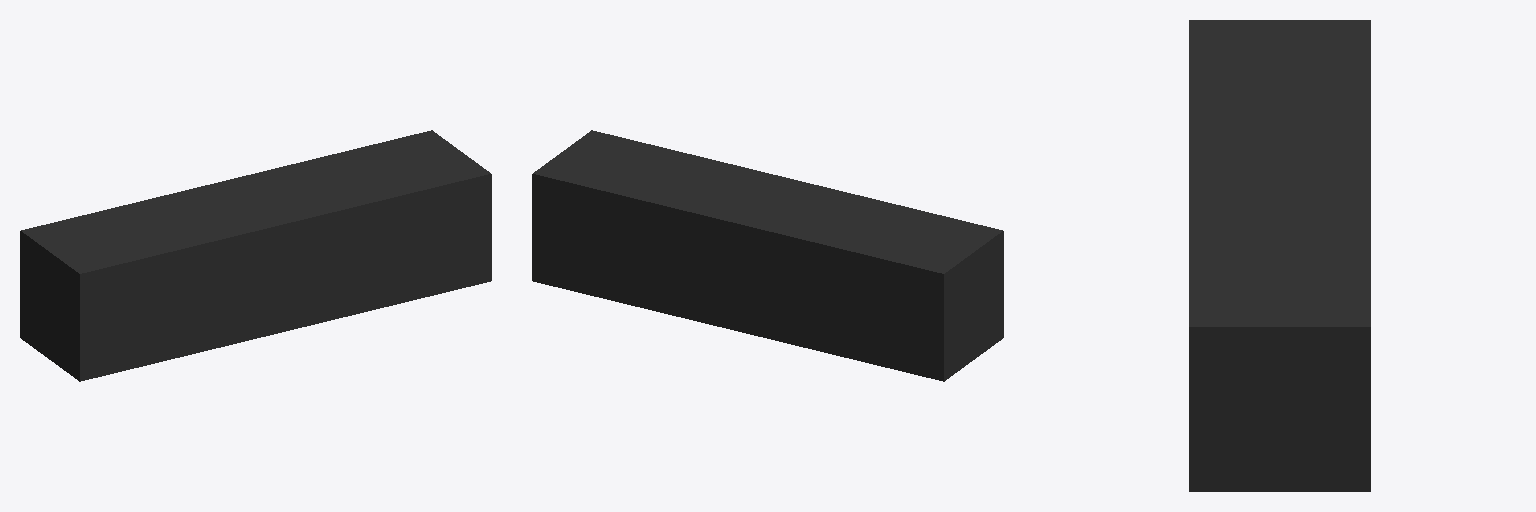
URDF robot description (wall):
<robot name="wall">
  <link name="baseLink">
   
    <inertial>
      <origin rpy="0 0 0" xyz="0 0 0" />
       <mass value="1000" />
       <inertia ixx="0" ixy="0" ixz="0" iyy="0" iyz="0" izz="0" />
    </inertial>
    <visual>
      <origin rpy="0 0 0" xyz="0 0 0" />
      <geometry>
			  <box size="4 1 1" />
      </geometry>
       <material name="grey">
        <color rgba="0.24 0.24 0.24 1" />
      </material>
    </visual>
    <collision>
      <origin rpy="0 0 0" xyz="0 0 0" />
      <geometry>
	 	      <box size="4 1 1" />
      </geometry>
    </collision>
  </link>
</robot>

--- Render facts (derived) ---
3 views of the same robot in one strip: view 1: azimuth 30°, elevation 25°; view 2: azimuth 150°, elevation 25°; view 3: azimuth 270°, elevation 25° (orthographic).
Model wall with 1 links and 0 joints (none), rooted at baseLink, posed all joints at 0.
Visible links, largest first — view 1: baseLink; view 2: baseLink; view 3: baseLink.
Boxes of the visible links, left/top/right/bottom form: baseLink: left=20, top=130, right=491, bottom=381; baseLink: left=532, top=130, right=1003, bottom=381; baseLink: left=1189, top=20, right=1370, bottom=491.
Bounding box of the posed robot: 4 × 1 × 1 m (x, y, z).
Geometry: primitives only (box / cylinder / sphere), no mesh files.
